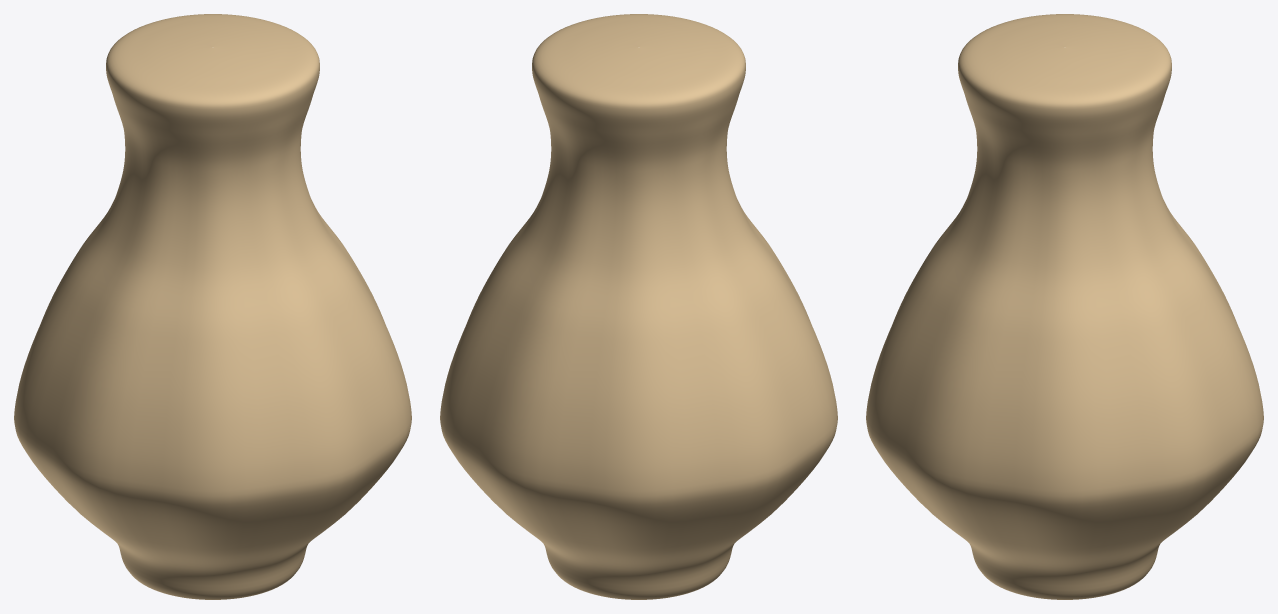
File: placeholder.gltf
3 renders of one model, left to right at view 1: azimuth 30°, elevation 25°; view 2: azimuth 150°, elevation 25°; view 3: azimuth 270°, elevation 25°, orthographic.
Parts seen in each view (by area): view 1: Placeholder Vessel; view 2: Placeholder Vessel; view 3: Placeholder Vessel.
Part boxes in pixels (x1,y1,x2,y2): Placeholder Vessel: [14, 14, 411, 599]; Placeholder Vessel: [440, 14, 837, 599]; Placeholder Vessel: [866, 14, 1263, 599].
Bounding box in the file's own units: 0.6644 × 0.97 × 0.669.
